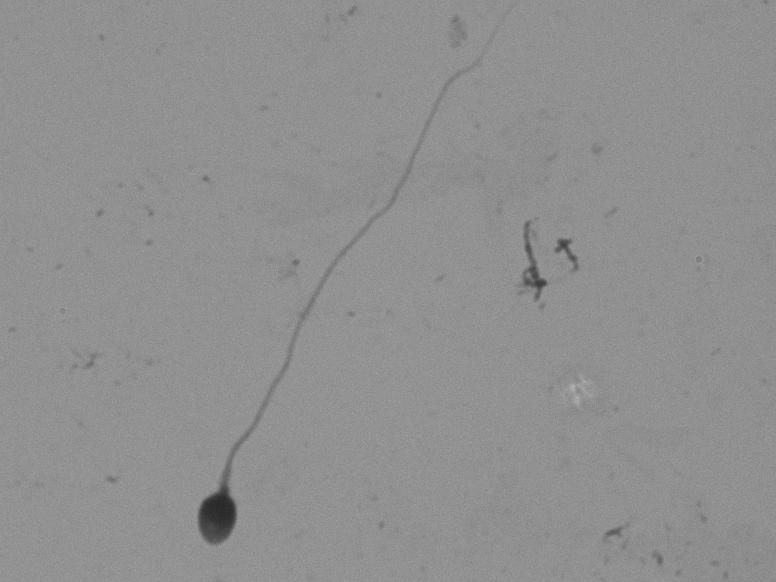Normal: (153, 17, 506, 561)
